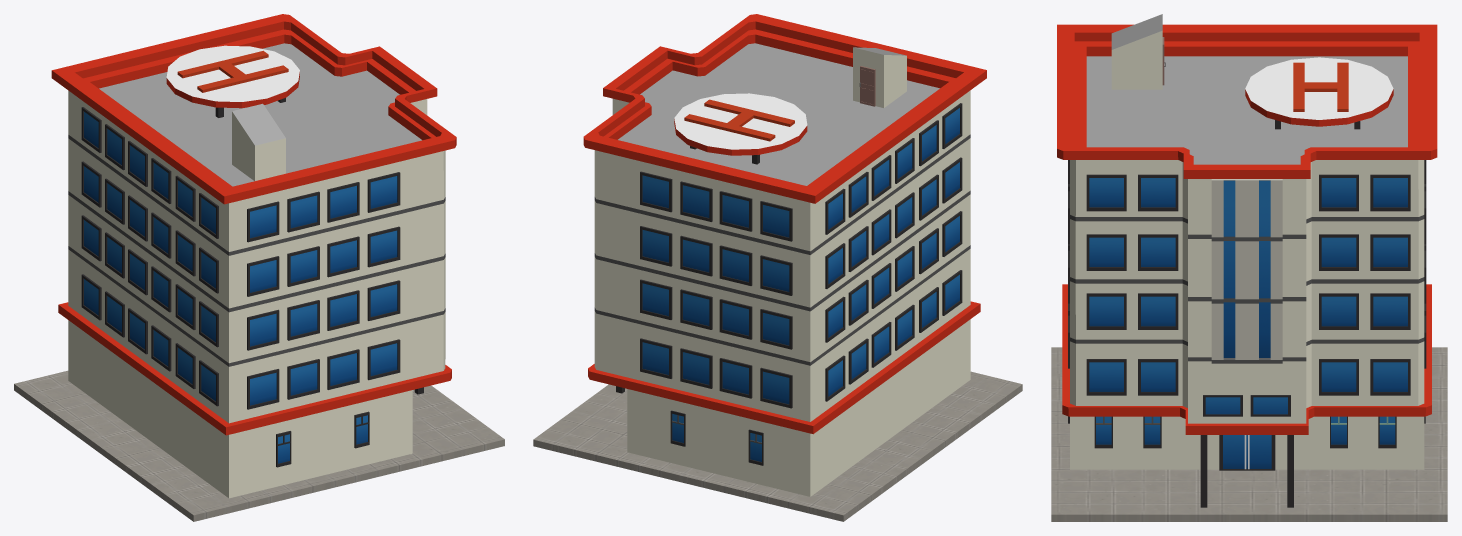
File: Hospital_01.fbx
The picture shows the model from 3 angles, left to right: view 1: azimuth 30°, elevation 25°; view 2: azimuth 150°, elevation 25°; view 3: azimuth 270°, elevation 25°; orthographic projection. The views are drawn at different scales.
Parts seen in each view (by area): view 1: Hospital_01; view 2: Hospital_01; view 3: Hospital_01.
Part boxes in pixels (<box>): Hospital_01: <box>14,14,504,521</box>; Hospital_01: <box>533,14,1022,521</box>; Hospital_01: <box>1051,14,1447,521</box>.
Bounding box in the file's own units: 3017 × 3261 × 3017.
